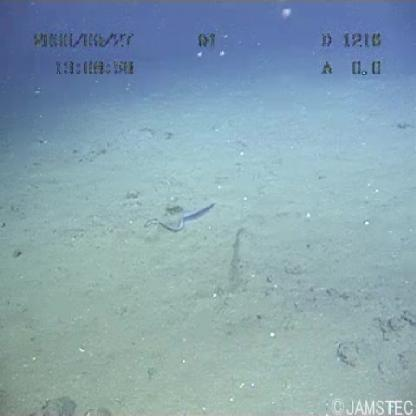Bio: (137, 197, 219, 242)
